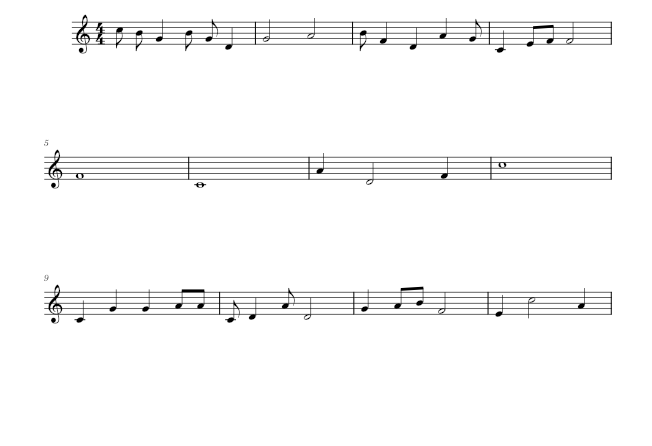Treble Clef: (45, 283, 68, 329), (71, 9, 93, 57), (45, 149, 66, 192)
